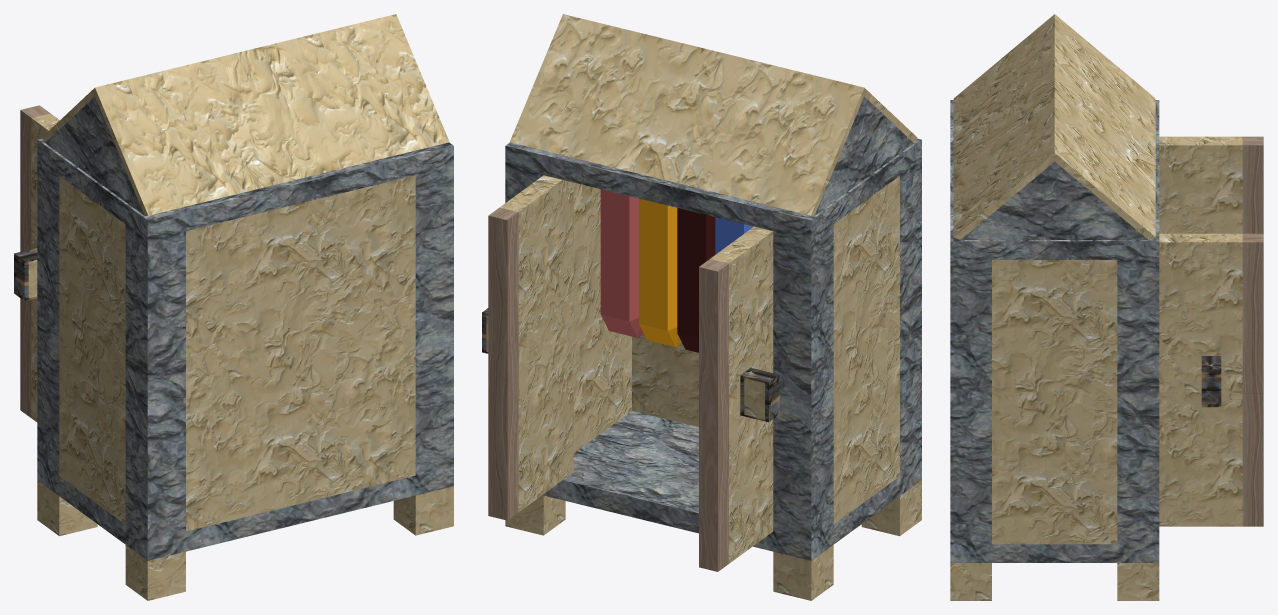
The model's file is WardrobeOpen.fbx.
3 renders of one model, left to right at view 1: azimuth 30°, elevation 25°; view 2: azimuth 150°, elevation 25°; view 3: azimuth 270°, elevation 25°, orthographic. The views are drawn at different scales.
Parts seen in each view (by area): view 1: block_default_11, roof_straight_22, block_default_18, block_default_15, block_default_14, block_default_12, block_default_10, block_default_16, block_default_28, block_default_8, block_default_9, block_default_20 (+2 smaller); view 2: roof_straight_22, block_default_18, block_default_16, block_default_19, block_default_10, block_default_20, block_default_12, block_default_17, block_default_21, block_default_28, block_default_15, block_rounded_29 (+9 smaller); view 3: roof_straight_22, block_default_17, block_default_19, block_default_13, block_default_14, block_default_20, block_default_21, block_default_12, block_default_10, block_default_28, block_default_6, block_default_9 (+1 smaller).
Boxes of the visible parts, x1,y1,x2,y2 form: block_default_11: (186,175,415,531); roof_straight_22: (41,14,449,215); block_default_18: (59,176,125,524); block_default_15: (125,225,185,540); block_default_14: (415,166,453,475); block_default_12: (37,138,453,240); block_default_10: (37,460,453,560); block_default_16: (37,160,59,475); block_default_28: (20,105,49,417); block_default_8: (125,545,185,600); block_default_9: (393,486,453,535); block_default_20: (31,113,59,422); roof_straight_22: (510,14,917,215); block_default_18: (833,176,899,524); block_default_16: (773,224,833,540); block_default_19: (500,175,573,511); block_default_10: (542,411,921,560); block_default_20: (710,226,773,563); block_default_12: (505,138,921,240); block_default_17: (573,182,631,452); block_default_21: (488,207,518,520); block_default_28: (699,259,728,571); block_default_15: (900,160,921,475); block_rounded_29: (600,189,643,337); roof_straight_22: (953,14,1155,239); block_default_17: (992,260,1117,544); block_default_19: (1159,233,1242,526); block_default_13: (1117,260,1159,544); block_default_14: (950,260,991,544); block_default_20: (1159,136,1242,233); block_default_21: (1242,233,1263,526); block_default_12: (950,100,1159,259); block_default_10: (950,544,1159,562); block_default_28: (1242,136,1263,233); block_default_6: (1117,563,1159,600); block_default_9: (950,563,991,600).
Bounding box in the file's own units: 16 × 23.6 × 15.
9 materials, 4 textured.
